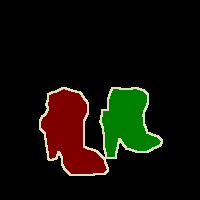shoe: (40, 88, 108, 175), (100, 87, 162, 158)
